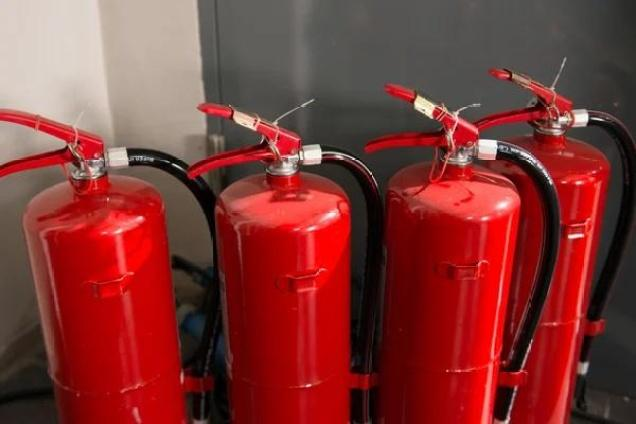APAR: (0, 106, 189, 423), (187, 101, 353, 423), (365, 83, 522, 423), (490, 68, 611, 423)
